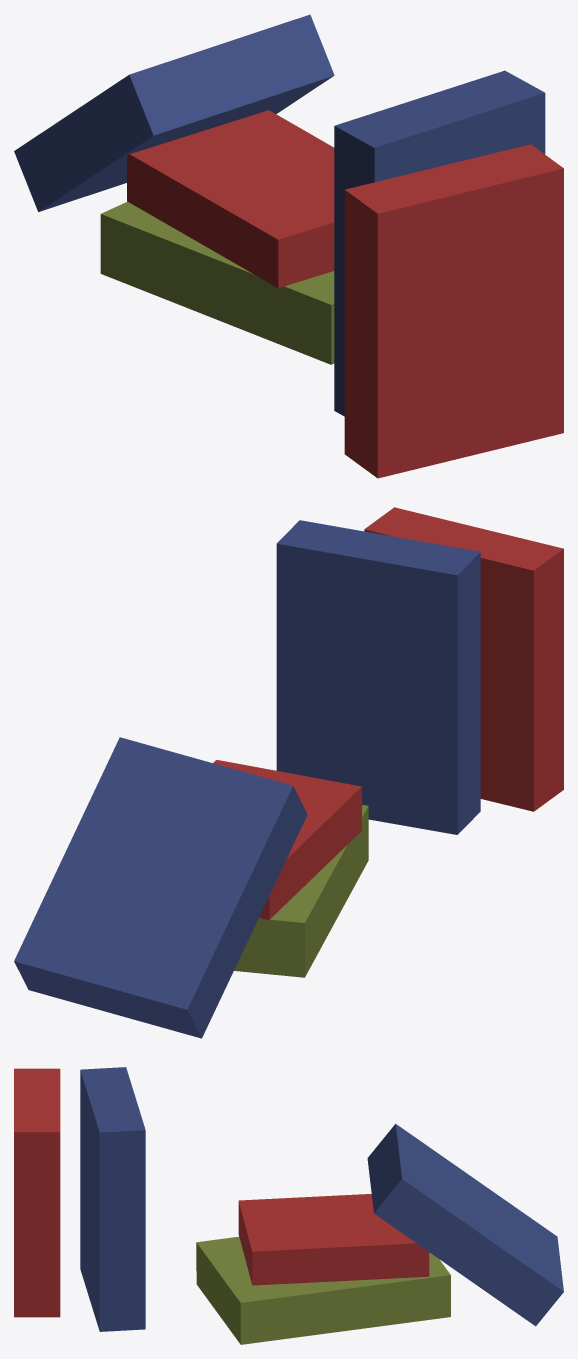
Rendered from Books.003.fbx.
3 renders of one model, top to bottom at view 1: azimuth 30°, elevation 25°; view 2: azimuth 150°, elevation 25°; view 3: azimuth 270°, elevation 25°, orthographic. The views are drawn at different scales.
Visible parts, largest first — view 1: Books.003; view 2: Books.003; view 3: Books.003.
Boxes of the visible parts, box(x1,y1,x2,y2) form: Books.003: box(14, 14, 563, 478); Books.003: box(14, 507, 563, 1038); Books.003: box(14, 1067, 563, 1344).
Bounding box in the file's own units: 0.1828 × 0.1973 × 0.4756.
